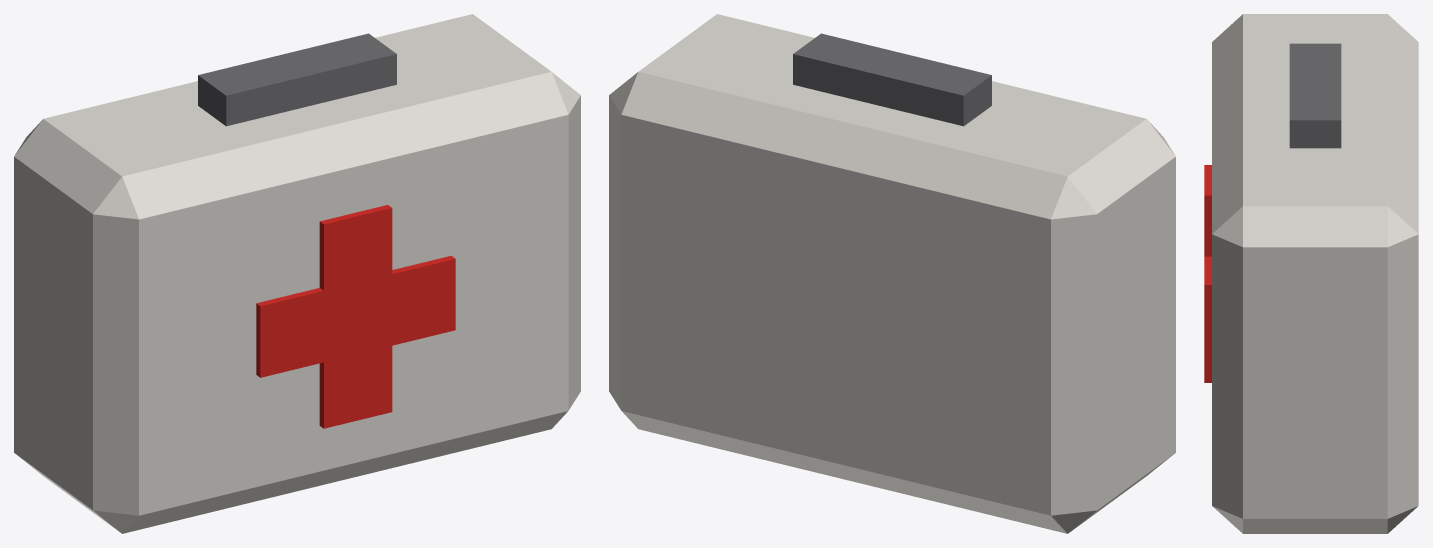
Rendered from Item_FirstAid.glb.
3 views of the same model, side by side, from view 1: azimuth 30°, elevation 25°; view 2: azimuth 150°, elevation 25°; view 3: azimuth 270°, elevation 25° (orthographic). The views are drawn at different scales.
Parts seen in each view (by area): view 1: FirstAid_Case, FirstAid_CrossH, FirstAid_CrossV, FirstAid_Handle; view 2: FirstAid_Case, FirstAid_Handle; view 3: FirstAid_Case, FirstAid_Handle, FirstAid_CrossV, FirstAid_CrossH.
Part boxes in pixels (bbox=[...]): FirstAid_Case: bbox=[14, 14, 580, 533]; FirstAid_CrossH: bbox=[256, 255, 455, 377]; FirstAid_CrossV: bbox=[319, 205, 392, 428]; FirstAid_Handle: bbox=[198, 33, 396, 126]; FirstAid_Case: bbox=[609, 14, 1175, 533]; FirstAid_Handle: bbox=[793, 33, 991, 126]; FirstAid_Case: bbox=[1212, 14, 1418, 533]; FirstAid_Handle: bbox=[1289, 43, 1341, 148]; FirstAid_CrossV: bbox=[1204, 165, 1211, 382]; FirstAid_CrossH: bbox=[1204, 256, 1211, 350].
Bounding box in the file's own units: 0.2 × 0.152 × 0.083.
